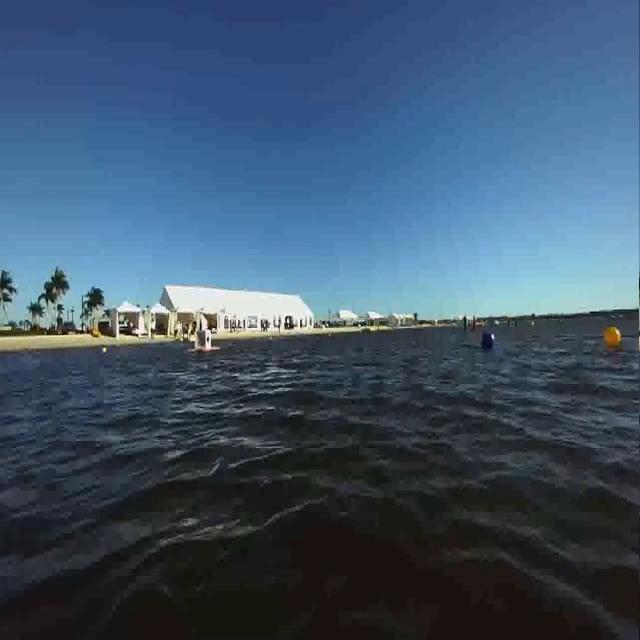blue-buoy: (482, 330, 496, 352)
yellow-buoy: (606, 326, 624, 350)
